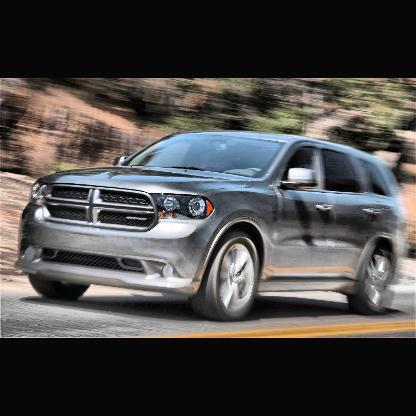Dodge Durango SUV 2012: (11, 127, 405, 323)
